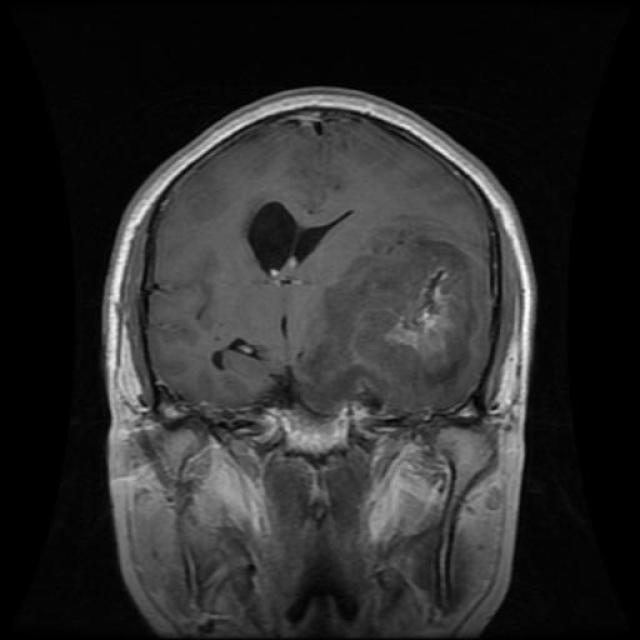glioma: (219, 142, 345, 275)
